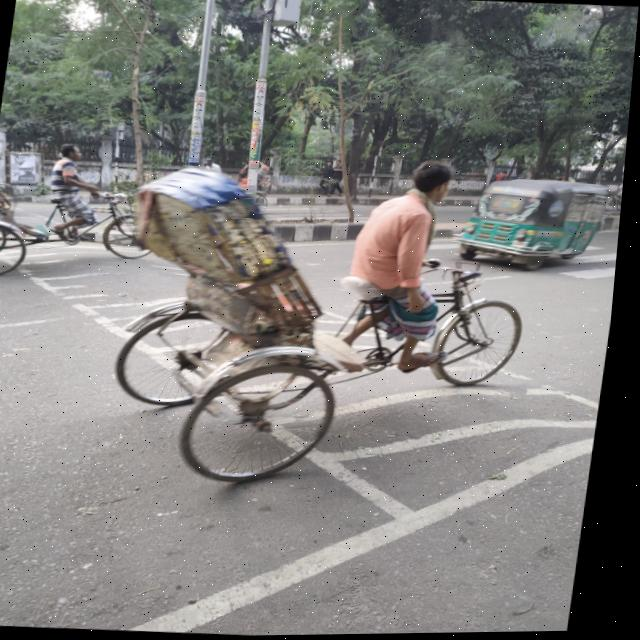rikshaw: (103, 146, 546, 460)
